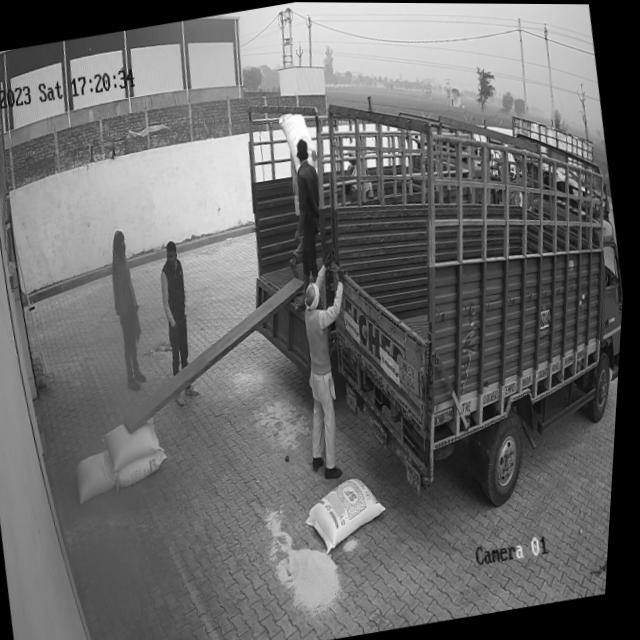sack: (304, 472, 400, 556), (103, 417, 168, 474), (76, 449, 125, 504), (118, 448, 175, 487)
